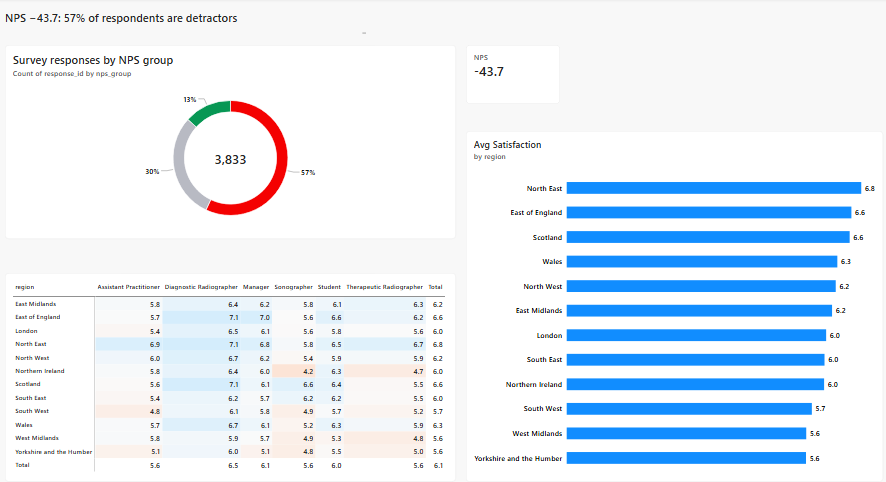

What the dashboard file says about the page in this screenshot:
{"tool":"powerbi","page":{"name":"Satisfaction","canvas":[1920,1080],"ordinal":3},"visuals":[{"type":"pivotTable","fields":{"Columns":["dim_member.role"],"Rows":["dim_region.region"],"Values":["-Measures.Avg Satisfaction"]},"box":[10.8,594,974.2,451.4],"z":0},{"type":"barChart","fields":{"Category":["dim_region.region"],"Y":["-Measures.Avg Satisfaction"]},"box":[1006.6,287.3,900.7,758.2],"z":1000},{"type":"cardVisual","fields":{"Data":["-Measures.NPS"]},"box":[1006.6,101.5,203,127.4],"z":2000},{"type":"donutChart","title":"Survey responses by NPS group","fields":{"Category":["fact_survey.nps_group"],"Y":["CountNonNull(fact_survey.response_id)"]},"box":[10.8,101.5,974.2,419],"z":3000},{"type":"textbox","title":"NPS −43.7: 57% of respondents are detractors","box":[10.8,25.9,779.8,51.8],"z":3001}]}

Visuals, with their boxes on the page's 1920x1080 design canvas (x1, y1, x2, y2). These are canvas units, not pixel positions in the 886x482 screenshot, which may show the page scaled, cropped or inside an application window:
pivotTable - dim_member.role x dim_region.region: BBox(11, 594, 985, 1045)
barChart - dim_region.region x -Measures.Avg Satisfaction: BBox(1007, 287, 1907, 1046)
cardVisual - -Measures.NPS: BBox(1007, 102, 1210, 229)
"Survey responses by NPS group" donutChart: BBox(11, 102, 985, 520)
"NPS −43.7: 57% of respondents are detractors" textbox: BBox(11, 26, 791, 78)
